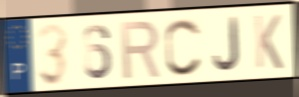3: (35, 21, 73, 88)
6: (82, 22, 114, 81)
C: (163, 16, 204, 78)
J: (211, 15, 243, 74)
K: (252, 13, 286, 71)
R: (119, 19, 163, 82)
